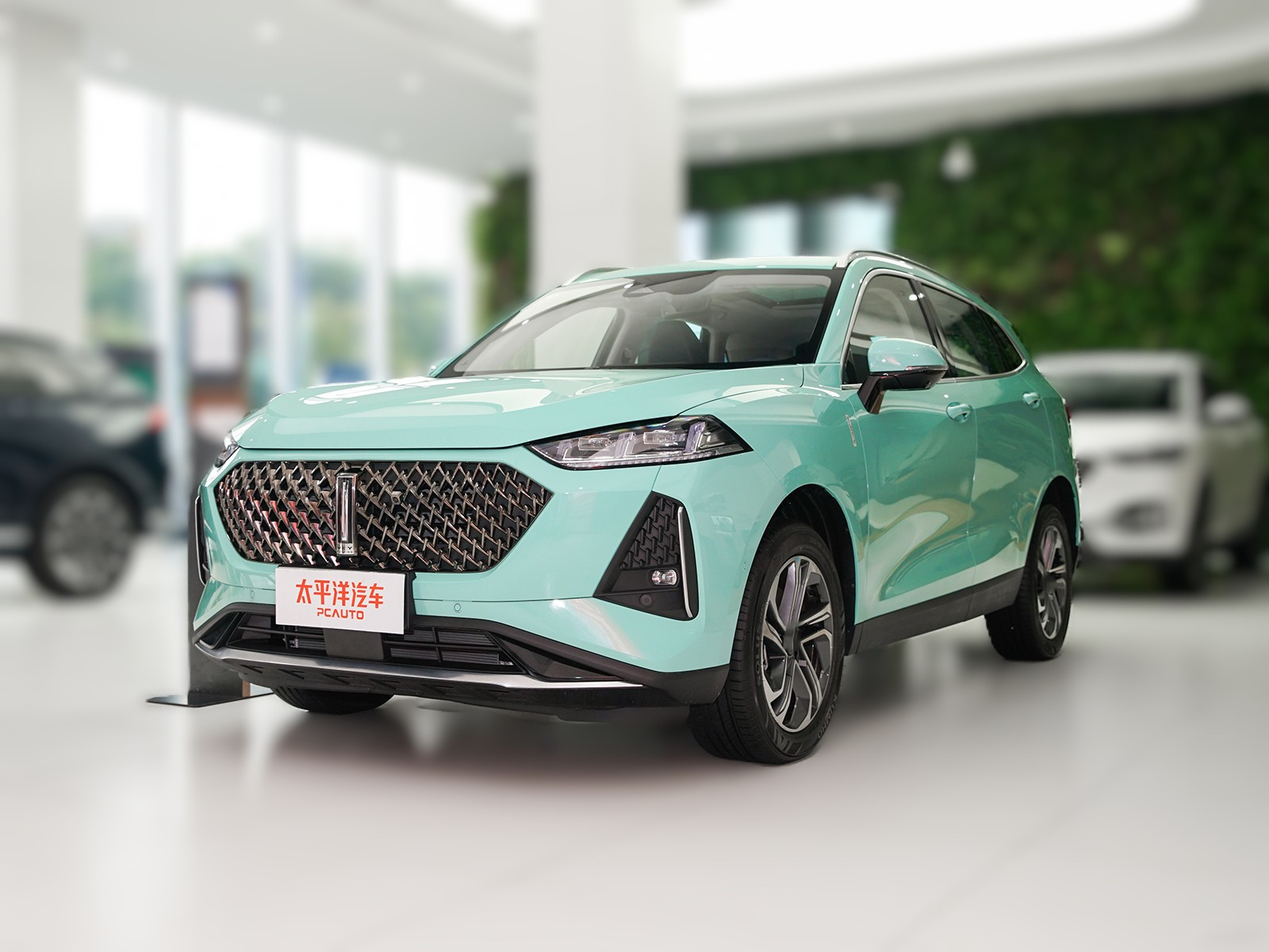WEY: (336, 477, 354, 555)
